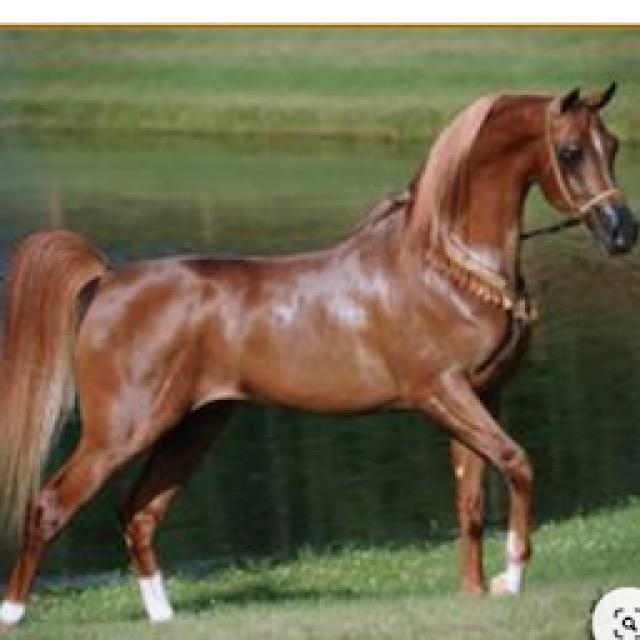Horse: (0, 75, 638, 630)
